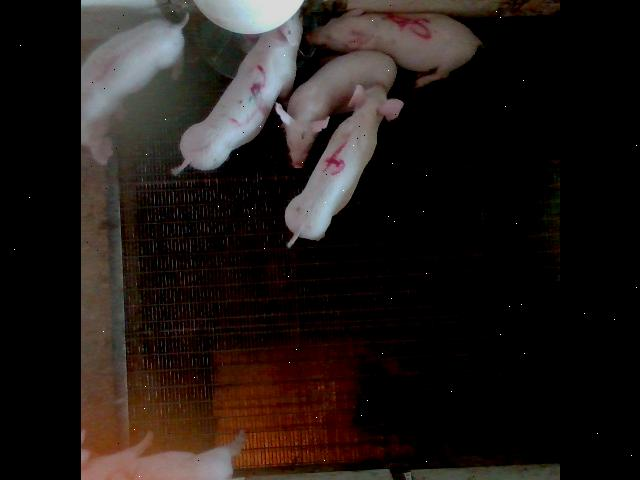pig-1: (81, 17, 188, 121)
pig-2: (81, 431, 244, 480)
pig-3: (171, 14, 301, 174)
pig-4: (284, 86, 402, 248)
pig-5: (306, 10, 482, 88)
